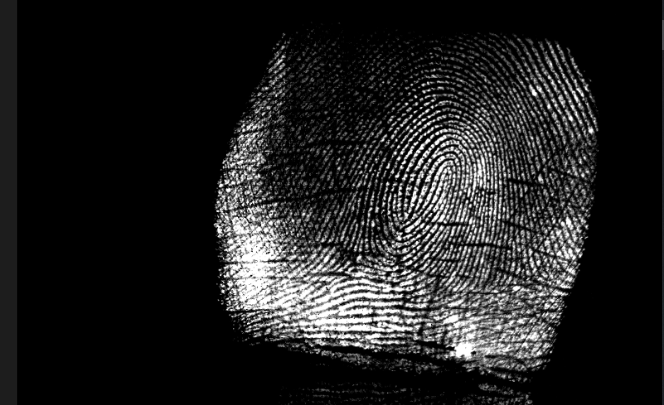nucelo: (433, 159, 458, 203)
verticilo: (505, 264, 537, 287), (340, 248, 367, 273)
